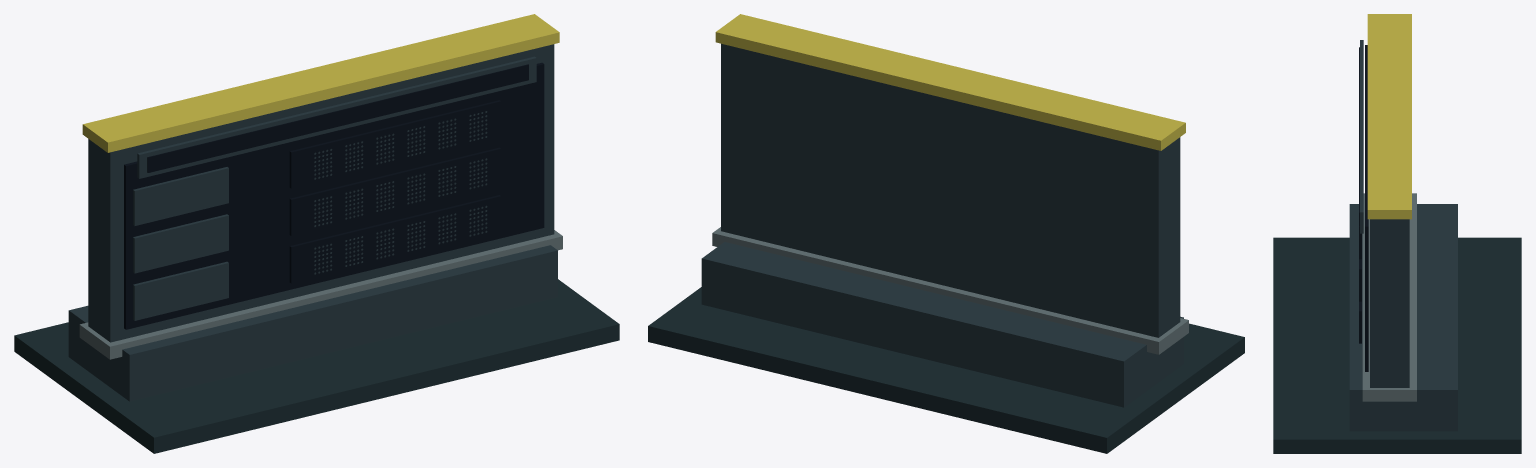
File: flipdot_rivalry_d0_lod1.meshopt.glb
3 renders of one model, left to right at view 1: azimuth 30°, elevation 25°; view 2: azimuth 150°, elevation 25°; view 3: azimuth 270°, elevation 25°, orthographic. The views are drawn at different scales.
Parts seen in each view (by area): view 1: RIVALRY_STRUCTURE; view 2: RIVALRY_STRUCTURE; view 3: RIVALRY_STRUCTURE.
Boxes of the visible parts, x1,y1,x2,y2 form: RIVALRY_STRUCTURE: [14, 14, 619, 453]; RIVALRY_STRUCTURE: [648, 14, 1244, 453]; RIVALRY_STRUCTURE: [1273, 14, 1521, 453].
Bounding box in the file's own units: 7.5 × 4.17 × 3.9.
